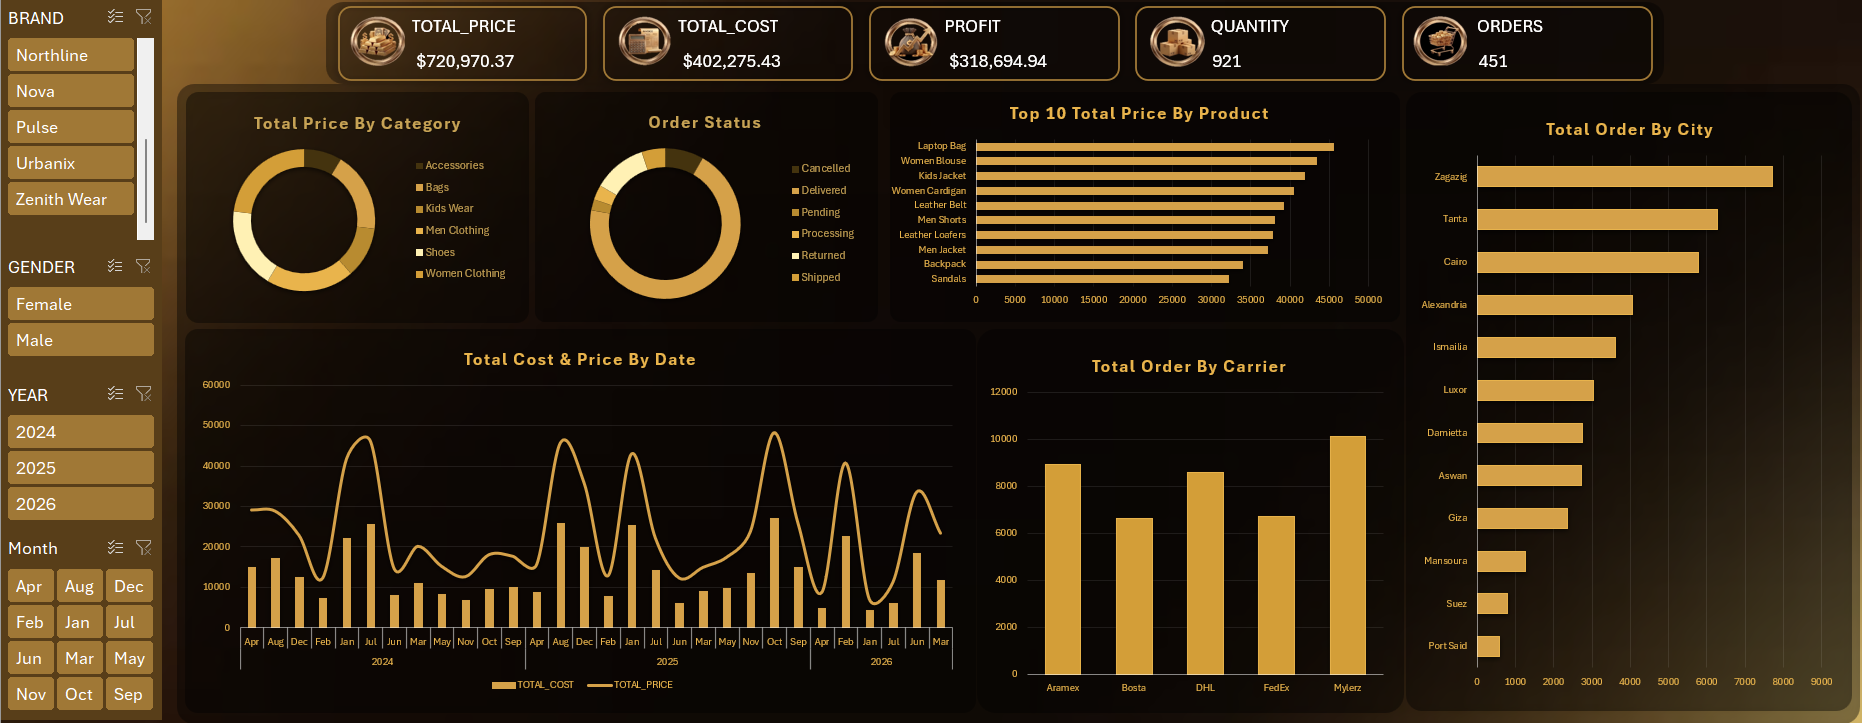

This screenshot's page, from the dashboard's own definition file:
{"tool":"powerbi","page":{"name":"Data Overview","canvas":[1280,720],"ordinal":1},"visuals":[{"type":"shape","box":[144.2,0,1136.2,81.6],"z":0,"group":"g1"},{"type":"shape","box":[144.2,0,1136.2,720],"z":0},{"type":"image","box":[0,246.7,144,200.4],"z":0,"group":"g2"},{"type":"cardVisual","fields":{"Data":["Measure_Table.Total Sales","Measure_Table.Total Order","Measure_Table.Total Customers","Measure_Table.Total Profit"]},"box":[153.2,81.6,1116.3,85.2],"z":1000},{"type":"group","id":"g1","title":"Group 1","box":[144.2,0,1136.2,81.6],"z":2000},{"type":"advancedSlicerVisual","fields":{"Values":["ORDER_STATUS.STATUS_NAME"]},"box":[0,0,144.2,246.7],"z":3000},{"type":"lineChart","title":"TOTALPRICE ","fields":{"Category":["ORDERS.Month"],"Y":["Sum(ORDERS.TOTAL_PRICE)"]},"box":[159.6,368.2,757.2,285.6],"z":4000},{"type":"filledMap","fields":{"Series":["ORDERS.TOTAL_PRICE"],"Category":["CUSTOMER.COUNTRY"]},"box":[795.3,173.2,474.3,186.8],"z":5000},{"type":"donutChart","title":"TOTALPRICE ","fields":{"Category":["CATEGORY.CATEGORY_NAME"],"Y":["Sum(ORDER_ITEMS.Total_Price)"]},"box":[159.6,173.2,315.6,186.8],"z":6000},{"type":"clusteredBarChart","title":"Total Quantity Per Category","fields":{"Category":["CATEGORY.CATEGORY_NAME"],"Y":["Sum(ORDER_ITEMS.QUANTITY)"]},"box":[923.1,368.2,346.4,342.8],"z":7000},{"type":"pageNavigator","box":[159.8,12.7,1104.9,56.2],"z":8000,"group":"g1"},{"type":"donutChart","title":"TOTAL Order","fields":{"Category":["ORDER_STATUS.STATUS_NAME"],"Y":["CountNonNull(ORDER_ITEMS.ORDER_ID)"]},"box":[481.5,173.2,305.6,186.8],"z":8000},{"type":"advancedSlicerVisual","fields":{"Values":["Parameter 2.Parameter"]},"box":[159.6,662,757.2,49.9],"z":9000},{"type":"advancedSlicerVisual","fields":{"Values":["ORDERS.ORDER_DATE.Variation.Date Hierarchy.Year"]},"box":[0,447,144,76],"z":10000},{"type":"advancedSlicerVisual","fields":{"Values":["ORDERS.Month"]},"box":[0,523,144,189],"z":11000},{"type":"image","box":[0,291.1,144,111.9],"z":14000,"group":"g2"},{"type":"group","id":"g2","title":"Group 2","box":[0,246.7,144.2,200],"z":14002}]}

Visuals, with their boxes on the page's 1280x720 design canvas (x1, y1, x2, y2). These are canvas units, not pixel positions in the 1862x723 screenshot, which may show the page scaled, cropped or inside an application window:
shape: locate(144, 0, 1280, 82)
shape: locate(144, 0, 1280, 720)
image: locate(0, 247, 144, 447)
cardVisual - Measure_Table.Total Sales x Measure_Table.Total Order: locate(153, 82, 1270, 167)
"Group 1" group: locate(144, 0, 1280, 82)
advancedSlicerVisual - ORDER_STATUS.STATUS_NAME: locate(0, 0, 144, 247)
"TOTALPRICE " lineChart: locate(160, 368, 917, 654)
filledMap - ORDERS.TOTAL_PRICE x CUSTOMER.COUNTRY: locate(795, 173, 1270, 360)
"TOTALPRICE " donutChart: locate(160, 173, 475, 360)
"Total Quantity Per Category" clusteredBarChart: locate(923, 368, 1270, 711)
pageNavigator: locate(160, 13, 1265, 69)
"TOTAL Order" donutChart: locate(482, 173, 787, 360)
advancedSlicerVisual - Parameter 2.Parameter: locate(160, 662, 917, 712)
advancedSlicerVisual - ORDERS.ORDER_DATE.Variation.Date Hierarchy.Year: locate(0, 447, 144, 523)
advancedSlicerVisual - ORDERS.Month: locate(0, 523, 144, 712)
image: locate(0, 291, 144, 403)
"Group 2" group: locate(0, 247, 144, 447)
